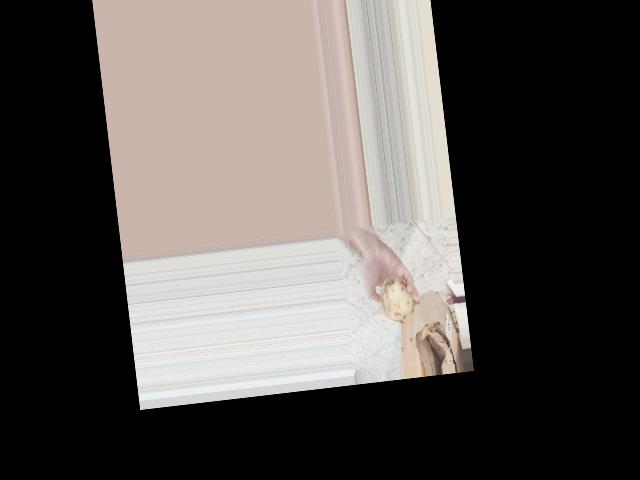onion: (374, 274, 417, 326)
